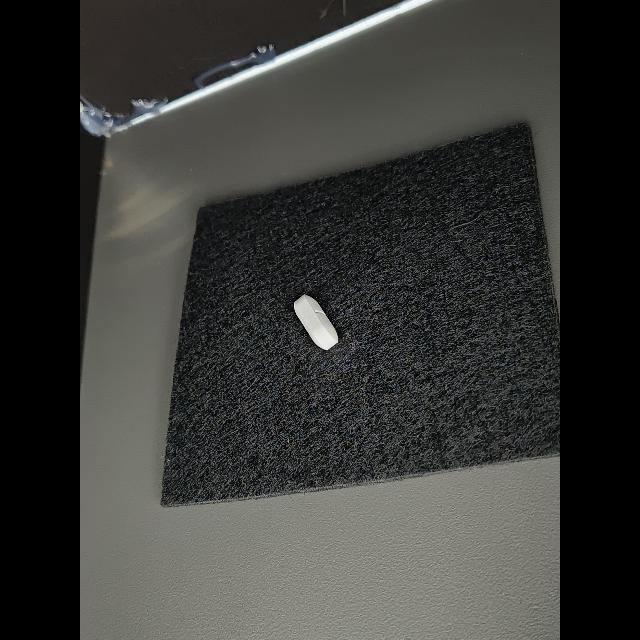Intact Pill: (294, 294, 338, 350)
